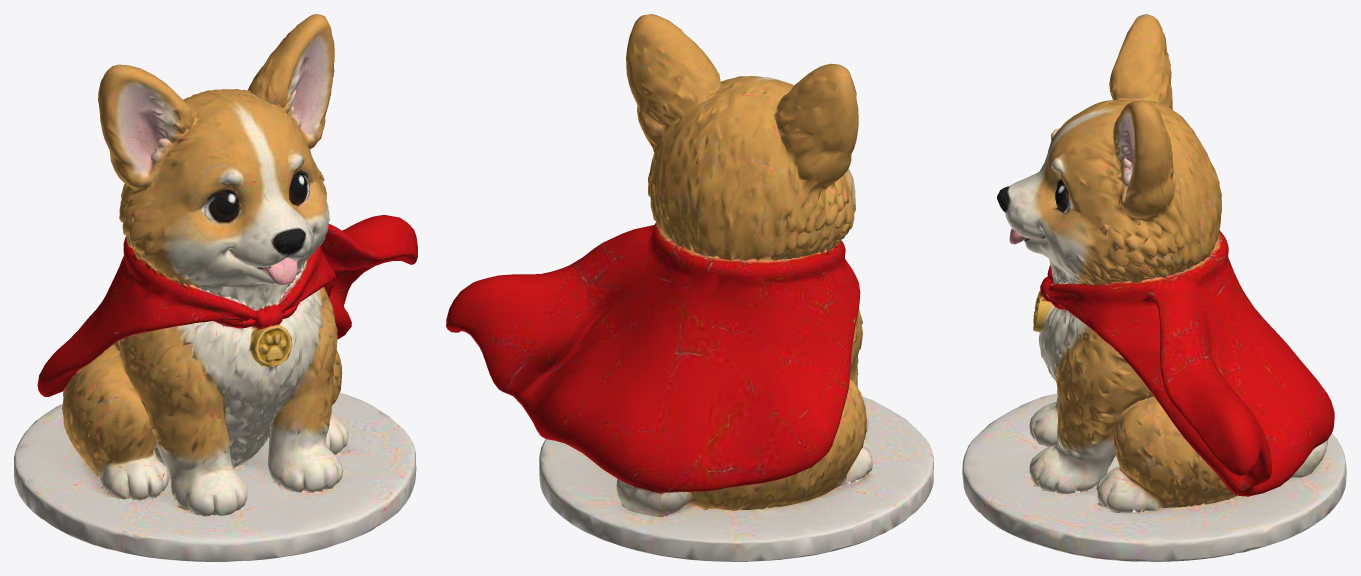
The picture shows the model from 3 angles, left to right: view 1: azimuth 30°, elevation 25°; view 2: azimuth 150°, elevation 25°; view 3: azimuth 270°, elevation 25°; orthographic projection. The views are drawn at different scales.
Size of the model in its own units: 1.88 by 1.9 by 1.56.
Materials: 1 (1 with a texture image).
